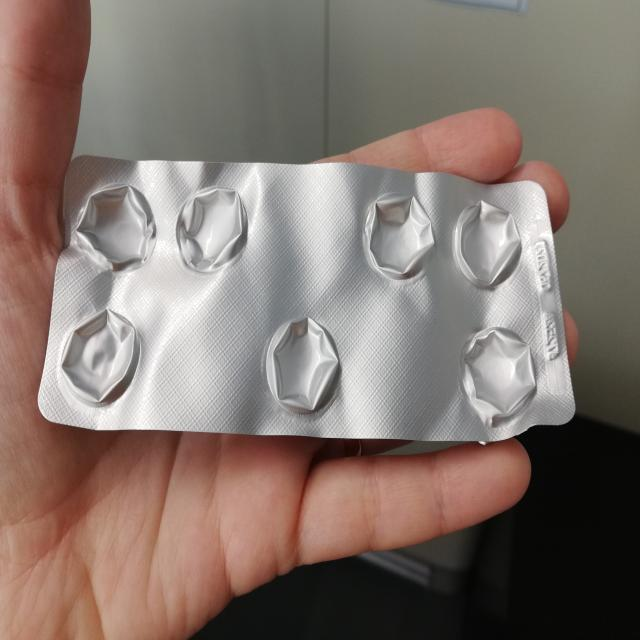Empty: (261, 311, 351, 422), (57, 298, 143, 411), (355, 183, 439, 291), (460, 313, 540, 426), (71, 178, 162, 274), (168, 183, 258, 278), (444, 187, 526, 291)
